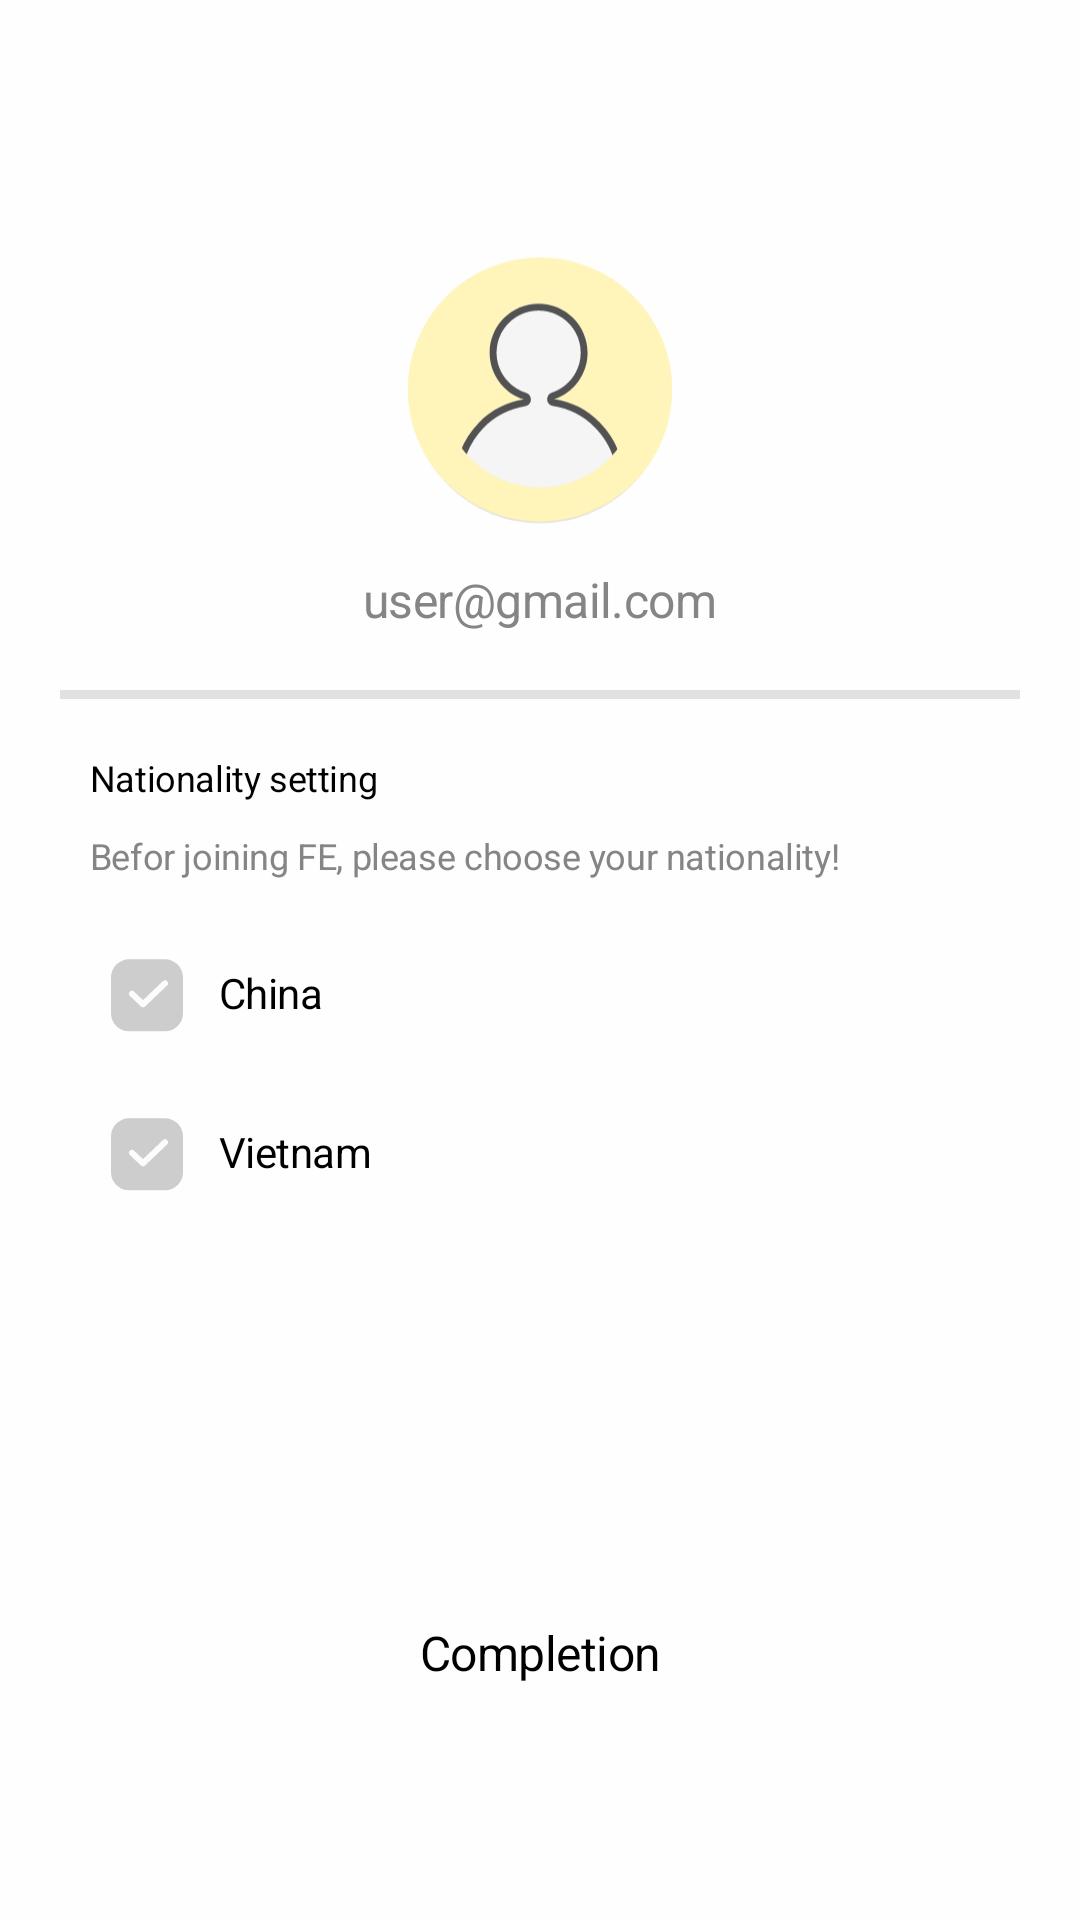

Where icons sit on this 1080*1920 app screen, as rect(x1, y1, x2, y2):
profile: rect(408, 257, 672, 523)
sel checkbox nationlity: rect(111, 959, 183, 1031), rect(111, 1118, 183, 1190)
